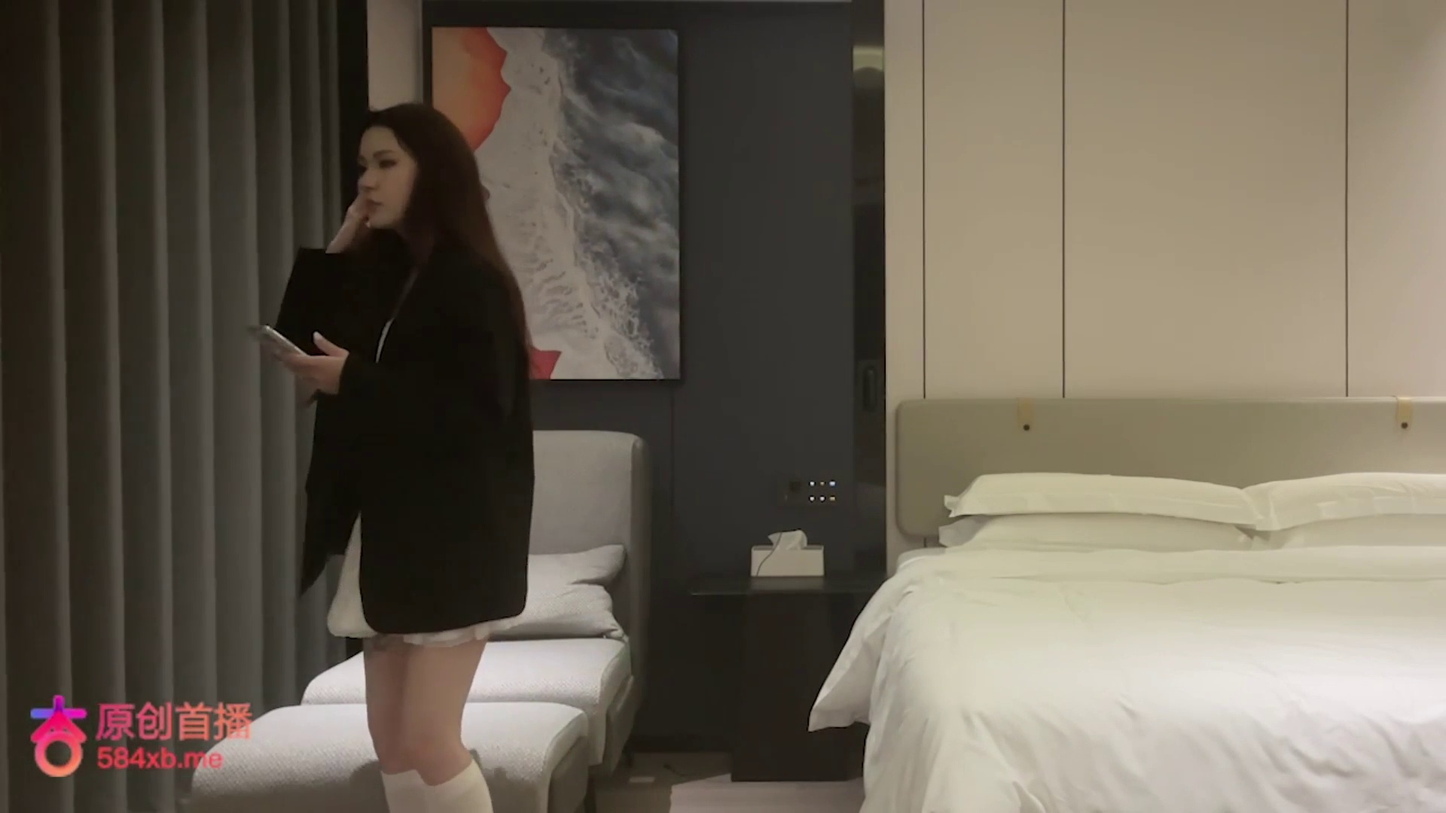stand: (258, 100, 536, 807)
